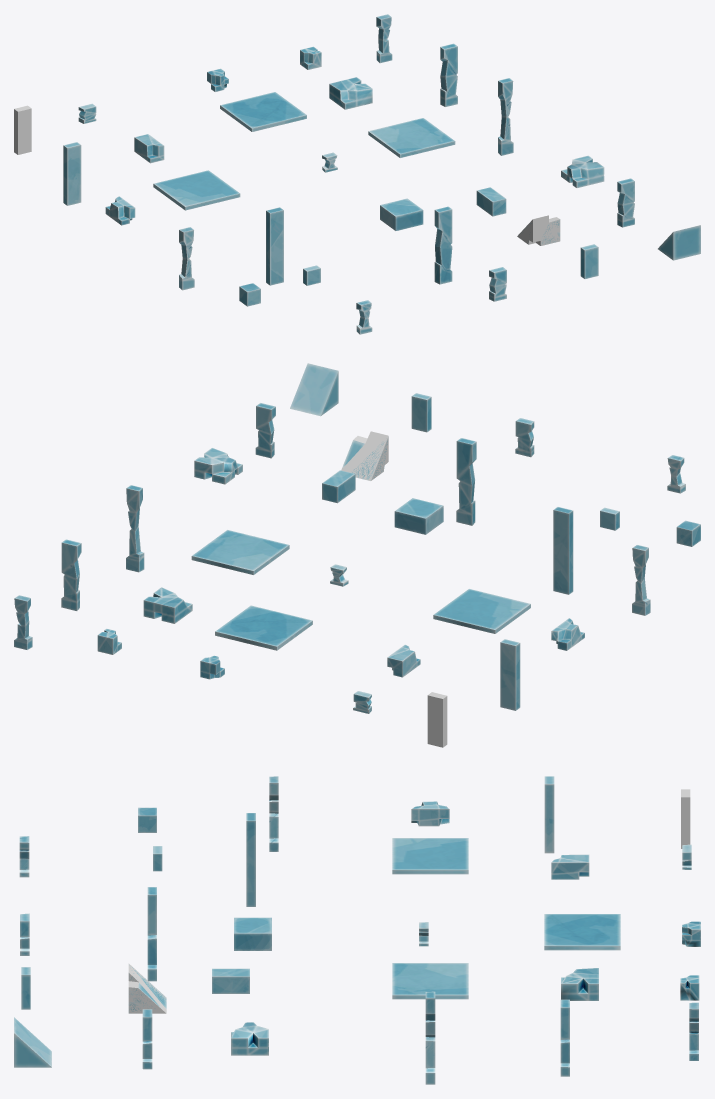
3 views of the same model, one above another, from view 1: azimuth 30°, elevation 25°; view 2: azimuth 150°, elevation 25°; view 3: azimuth 270°, elevation 25° (orthographic). The views are drawn at different scales.
Visible parts, largest first — view 1: Ice_Platform_8x1x8_Whole_Geo, Ice_Platform_8x1x8_HalfBroken_Geo, Ice_Platform_8x1x8_Broken_Geo, Ice_Long_2x10x1_Whole_Geo, Ice_Long_2x10x1_HalfBroken_Geo, Ice_Long_2x8x1_Whole_Geo, Ice_Square_4x2x4_Whole_Geo, Ice_Square_4x2x4_HalfBroken_Geo, Ice_Long_2x8x1_HalfBroken_Geo, Ice_Ramp_4x4x4_Whole_Geo, Ice_Square_4x2x4_Broken_Geo, Ice_Ramp_4x4x4_Broken_Geo (+10 smaller); view 2: Ice_Platform_8x1x8_HalfBroken_Geo, Ice_Platform_8x1x8_Whole_Geo, Ice_Platform_8x1x8_Broken_Geo, Ice_Ramp_4x4x4_Whole_Geo, Ice_Long_2x10x1_Whole_Geo, Ice_Long_2x10x1_HalfBroken_Geo, Ice_Ramp_4x4x4_Broken_Geo, Ice_Long_2x8x1_Whole_Geo, Ice_Square_4x2x4_Whole_Geo, Ice_Long_2x8x1_HalfBroken_Geo, Ice_Square_4x2x4_HalfBroken_Geo, Ice_Square_4x2x4_Broken_Geo (+11 smaller); view 3: Ice_Platform_8x1x8_Broken_Geo, Ice_Platform_8x1x8_Whole_Geo, Ice_Platform_8x1x8_HalfBroken_Geo, Ice_Ramp_4x4x4_Whole_Geo, Ice_Square_4x2x4_Whole_Geo, Ice_Ramp_4x4x4_Broken_Geo, Ice_Square_4x2x4_HalfBroken_Geo, Ice_Square_4x2x4_Broken_Geo, Ice_Long_2x10x1_Broken_Geo, Ice_Square_2x4x2_Whole_Geo, Ice_Long_2x10x1_HalfBroken_Geo, Ice_Long_2x10x1_Whole_Geo (+11 smaller).
Part boxes in pixels (x1=…): Ice_Platform_8x1x8_Whole_Geo: x1=153, y1=170, x2=240, y2=210; Ice_Platform_8x1x8_HalfBroken_Geo: x1=368, y1=118, x2=455, y2=157; Ice_Platform_8x1x8_Broken_Geo: x1=220, y1=92, x2=306, y2=131; Ice_Long_2x10x1_Whole_Geo: x1=266, y1=207, x2=283, y2=285; Ice_Long_2x10x1_HalfBroken_Geo: x1=434, y1=206, x2=452, y2=284; Ice_Long_2x8x1_Whole_Geo: x1=63, y1=142, x2=81, y2=205; Ice_Square_4x2x4_Whole_Geo: x1=380, y1=198, x2=423, y2=230; Ice_Square_4x2x4_HalfBroken_Geo: x1=329, y1=77, x2=372, y2=109; Ice_Long_2x8x1_HalfBroken_Geo: x1=440, y1=43, x2=457, y2=106; Ice_Ramp_4x4x4_Whole_Geo: x1=658, y1=225, x2=700, y2=260; Ice_Square_4x2x4_Broken_Geo: x1=561, y1=155, x2=604, y2=187; Ice_Ramp_4x4x4_Broken_Geo: x1=517, y1=215, x2=560, y2=245; Ice_Platform_8x1x8_HalfBroken_Geo: x1=191, y1=530, x2=289, y2=574; Ice_Platform_8x1x8_Whole_Geo: x1=433, y1=589, x2=530, y2=633; Ice_Platform_8x1x8_Broken_Geo: x1=215, y1=605, x2=312, y2=650; Ice_Ramp_4x4x4_Whole_Geo: x1=290, y1=363, x2=338, y2=416; Ice_Long_2x10x1_Whole_Geo: x1=553, y1=507, x2=573, y2=594; Ice_Long_2x10x1_HalfBroken_Geo: x1=456, y1=438, x2=476, y2=525; Ice_Ramp_4x4x4_Broken_Geo: x1=341, y1=431, x2=388, y2=480; Ice_Long_2x8x1_Whole_Geo: x1=500, y1=639, x2=520, y2=710; Ice_Square_4x2x4_Whole_Geo: x1=394, y1=498, x2=443, y2=534; Ice_Long_2x8x1_HalfBroken_Geo: x1=61, y1=539, x2=81, y2=610; Ice_Square_4x2x4_HalfBroken_Geo: x1=143, y1=587, x2=192, y2=623; Ice_Square_4x2x4_Broken_Geo: x1=194, y1=448, x2=242, y2=484; Ice_Platform_8x1x8_Broken_Geo: x1=544, y1=914, x2=620, y2=950; Ice_Platform_8x1x8_Whole_Geo: x1=392, y1=838, x2=468, y2=874; Ice_Platform_8x1x8_HalfBroken_Geo: x1=392, y1=963, x2=468, y2=999; Ice_Ramp_4x4x4_Whole_Geo: x1=14, y1=1017, x2=51, y2=1067; Ice_Square_4x2x4_Whole_Geo: x1=234, y1=917, x2=271, y2=950; Ice_Ramp_4x4x4_Broken_Geo: x1=128, y1=963, x2=166, y2=1013; Ice_Square_4x2x4_HalfBroken_Geo: x1=561, y1=968, x2=598, y2=1000; Ice_Square_4x2x4_Broken_Geo: x1=231, y1=1022, x2=268, y2=1055; Ice_Long_2x10x1_Broken_Geo: x1=425, y1=991, x2=435, y2=1084; Ice_Square_2x4x2_Whole_Geo: x1=212, y1=968, x2=249, y2=993; Ice_Long_2x10x1_HalfBroken_Geo: x1=147, y1=887, x2=156, y2=981; Ice_Long_2x10x1_Whole_Geo: x1=246, y1=813, x2=255, y2=906.
Size of the model in its own units: 5990 by 1000 by 7229.
